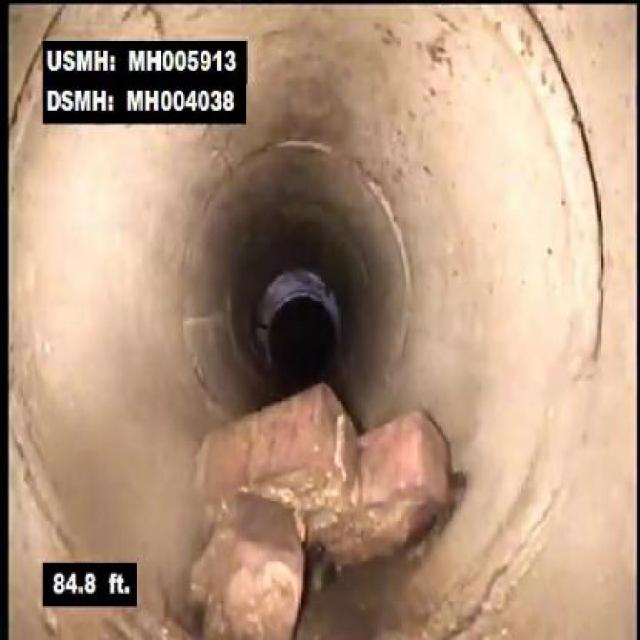Obstacle: (156, 377, 470, 638)
